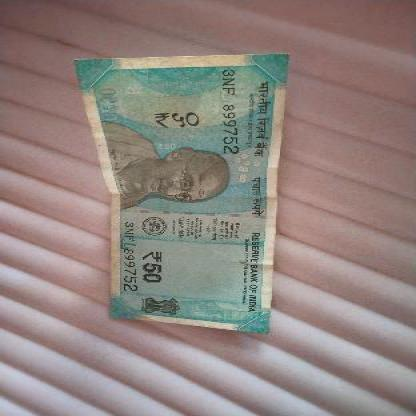New50Front: (78, 58, 285, 336)
